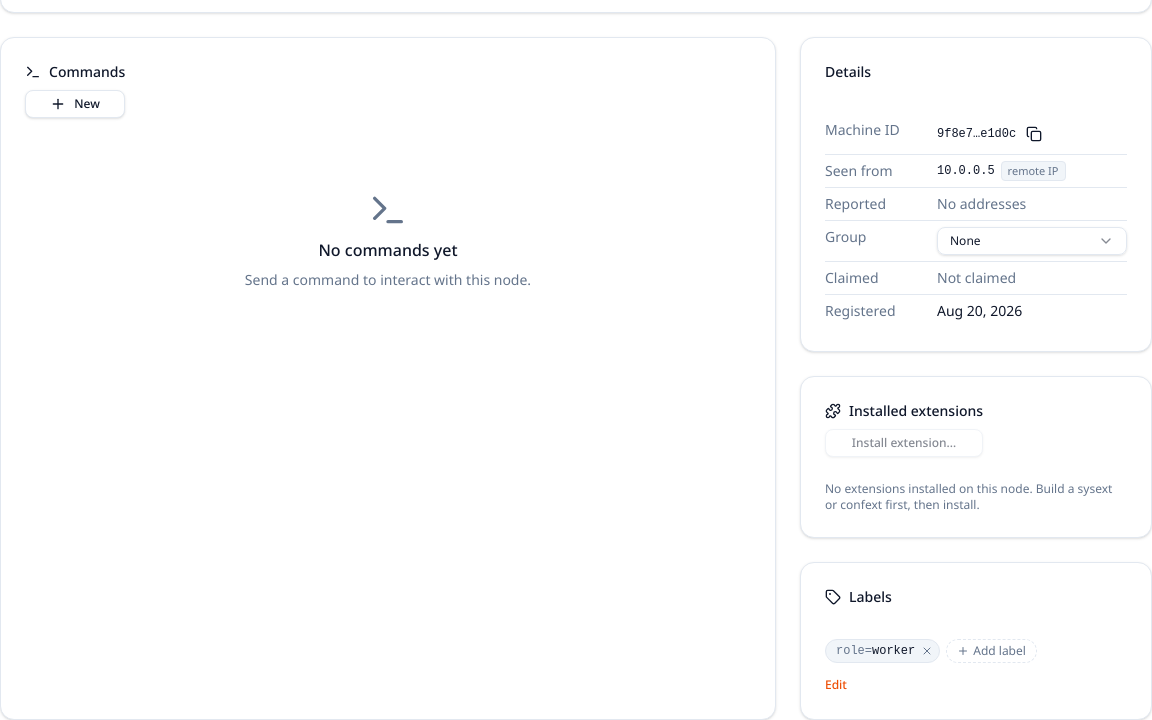
NodeDetail layout › rejects a label key that is already used, without saving
(page scrolled)
Click the button "Add label" at (992, 651), box [946,639,1037,663]
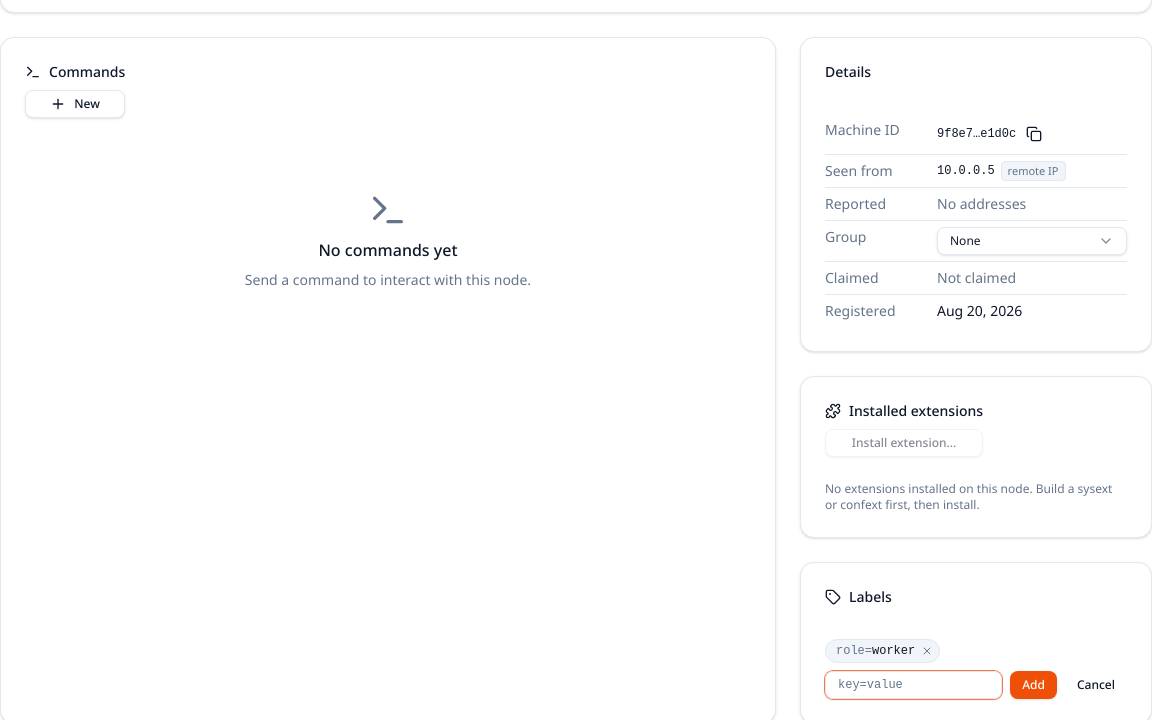
Type "role=db" into the field named "New label" at (914, 685), box [825,671,1002,699]
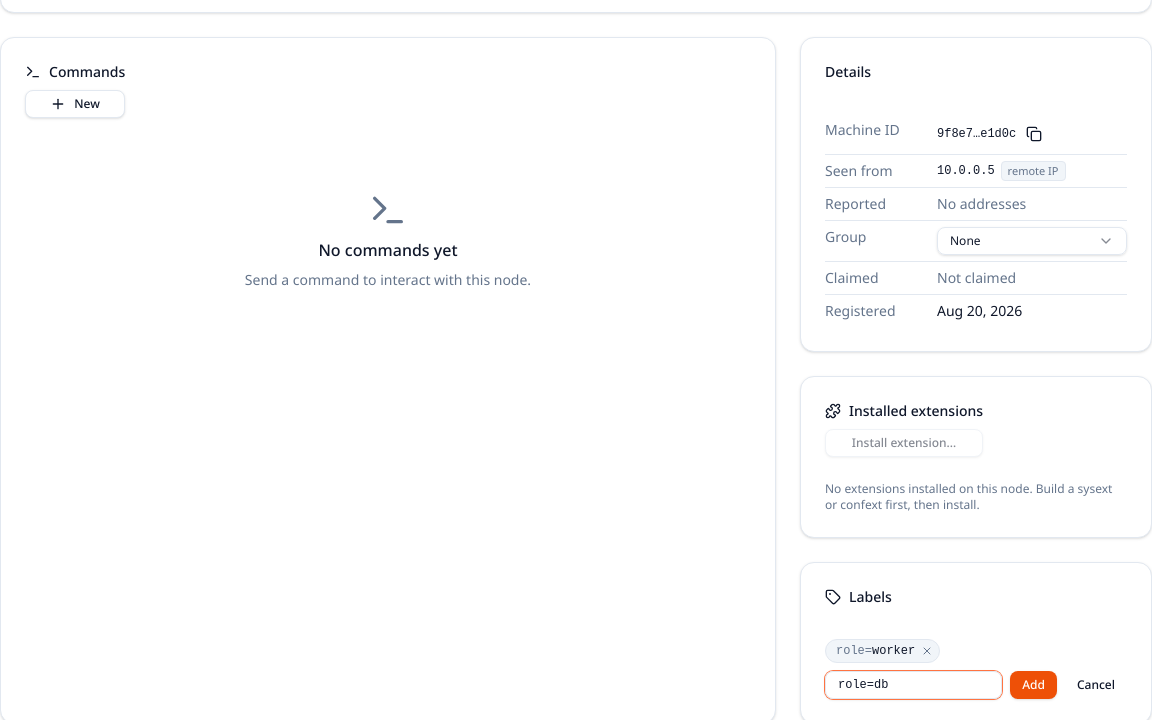
Click the button "Add" at (1034, 685), box [1010,671,1057,699]
(page scrolled)
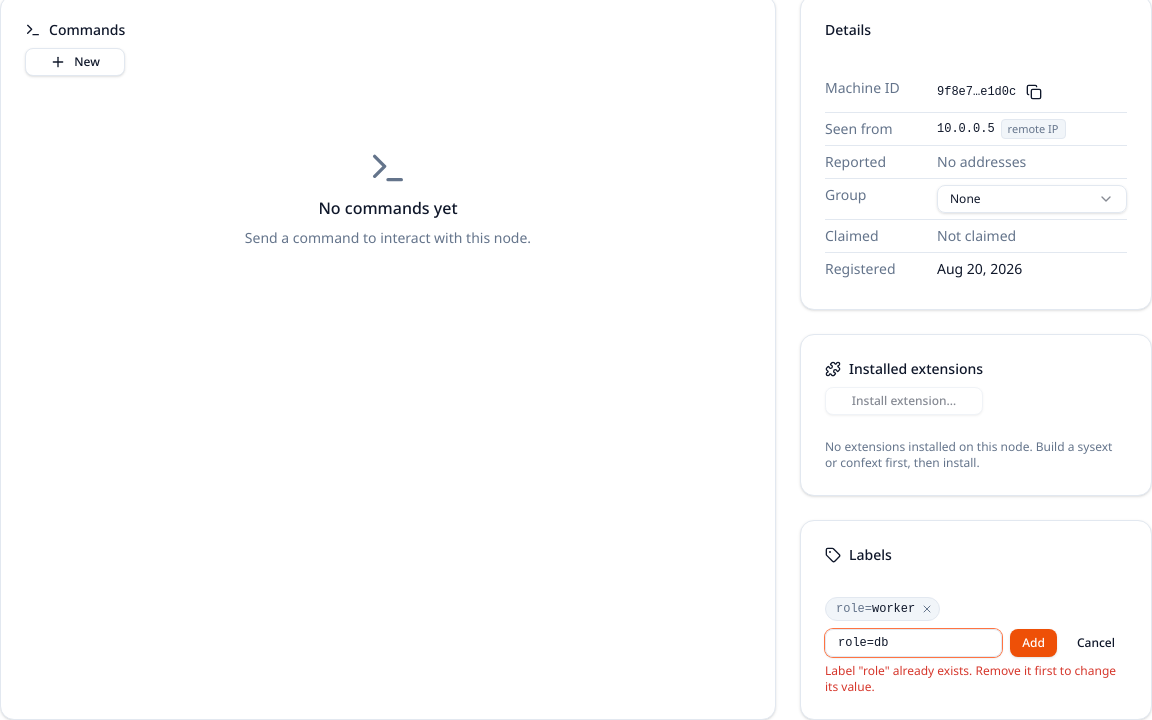
Check: the text "Label \"role\" already exists. Remove it first to change its value." is shown, box [825,663,1127,695]
